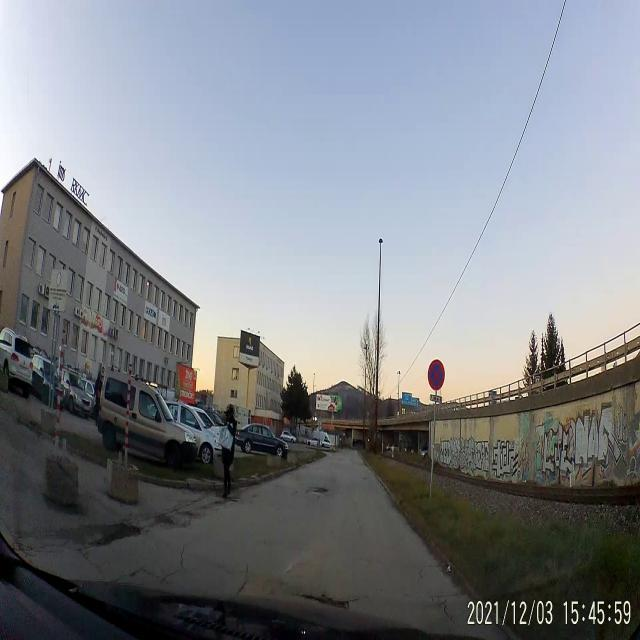Pothole: (296, 590, 348, 612), (306, 483, 330, 498)
